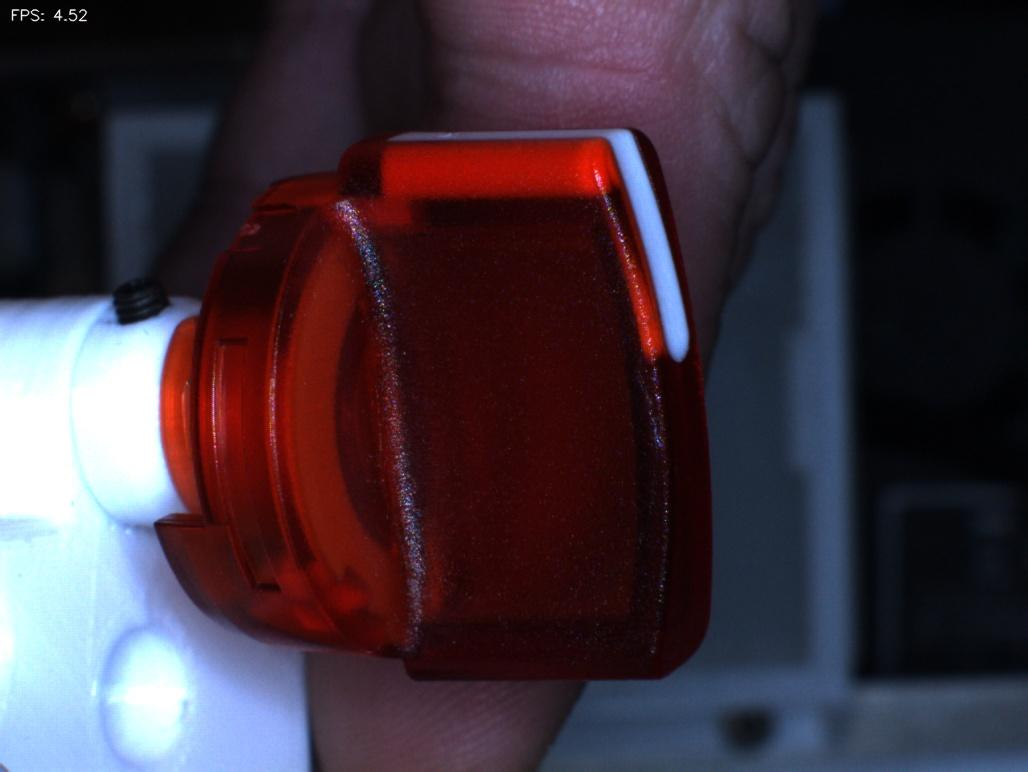Givrage: (599, 341, 686, 476)
